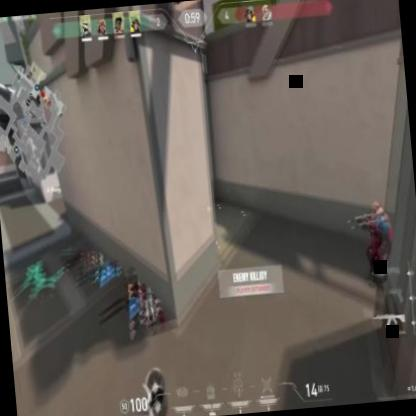enemy: (358, 202, 398, 289)
enemy_head: (372, 201, 381, 218)
